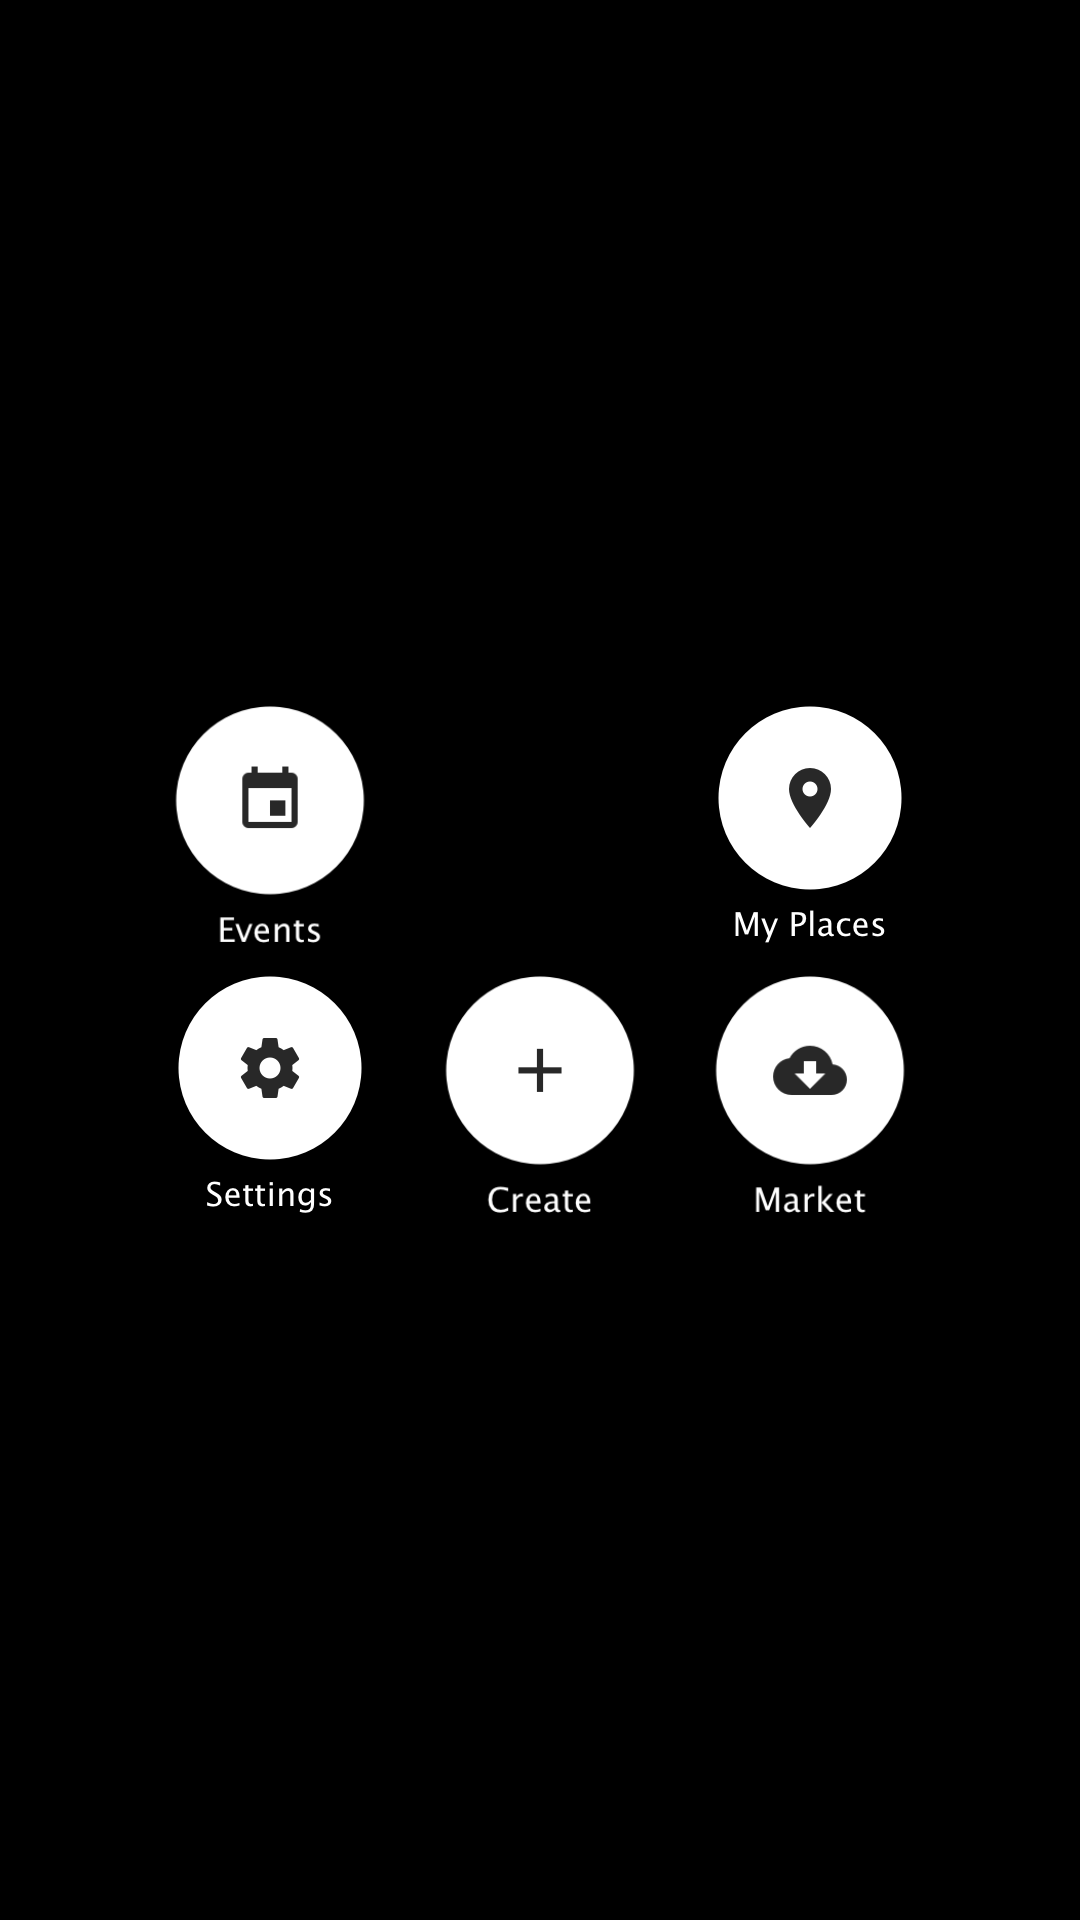

Locate icon controls on the screen. Image size 1080x1920, boxes as {"left": x1, "top": y1, "right": x2, "bottom": y2}.
download: {"left": 715, "top": 976, "right": 905, "bottom": 1213}
